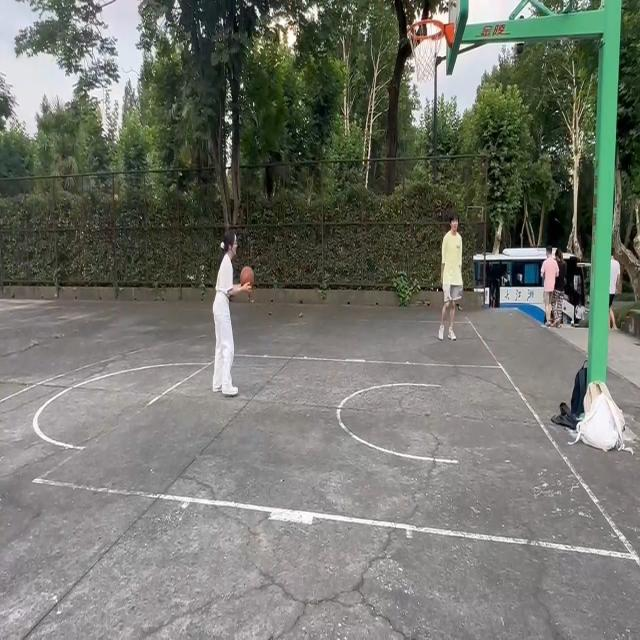basketball: (407, 19, 452, 83)
rim: (241, 268, 254, 288)
